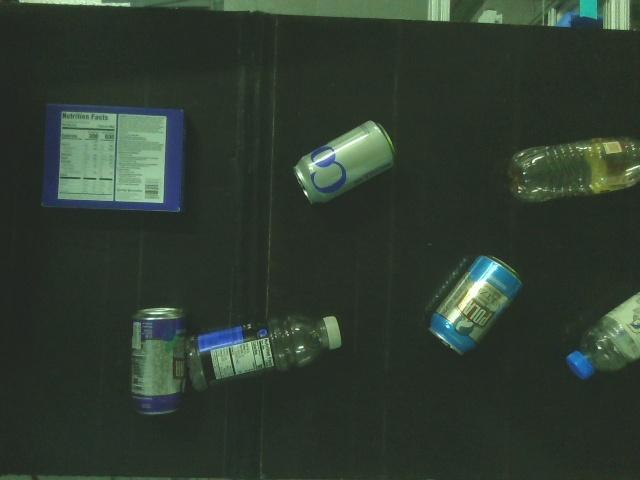cardboard: (38, 102, 185, 214)
metal: (422, 250, 528, 361), (290, 112, 403, 215), (124, 302, 190, 425)
plastic: (189, 312, 352, 396), (503, 130, 640, 210), (561, 286, 640, 384)
